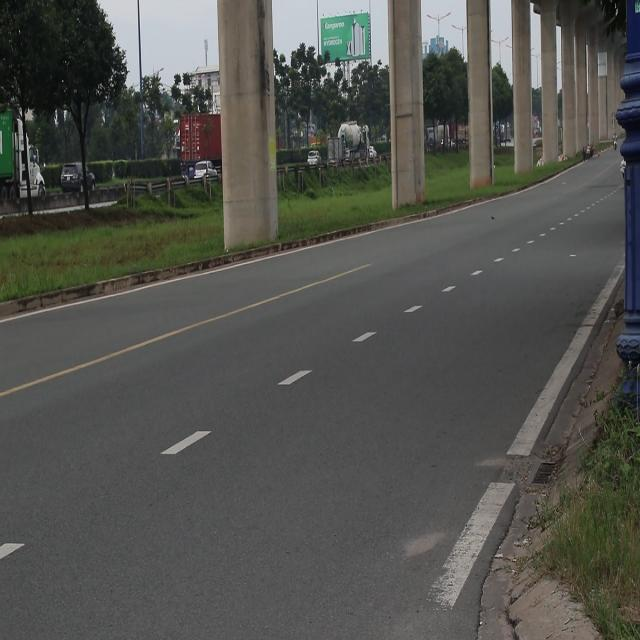car: (60, 164, 97, 193), (190, 160, 220, 180), (306, 152, 321, 168)
motorbike: (610, 128, 620, 157), (617, 168, 629, 184)
truck: (0, 105, 45, 207), (177, 113, 223, 181), (328, 135, 349, 175)
